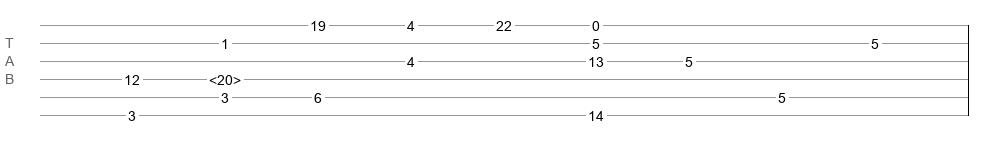0: (592, 18, 600, 28)
1: (221, 36, 229, 46)
12: (124, 72, 140, 82)
13: (588, 54, 604, 64)
14: (588, 108, 604, 118)
19: (310, 18, 326, 28)
22: (496, 18, 512, 28)
3: (128, 108, 136, 118), (221, 90, 229, 100)
4: (407, 18, 415, 28), (407, 54, 415, 64)
5: (592, 36, 600, 46), (685, 54, 693, 64), (778, 90, 786, 100), (871, 36, 879, 46)
6: (314, 90, 322, 100)
harmonic: (209, 72, 241, 82)
